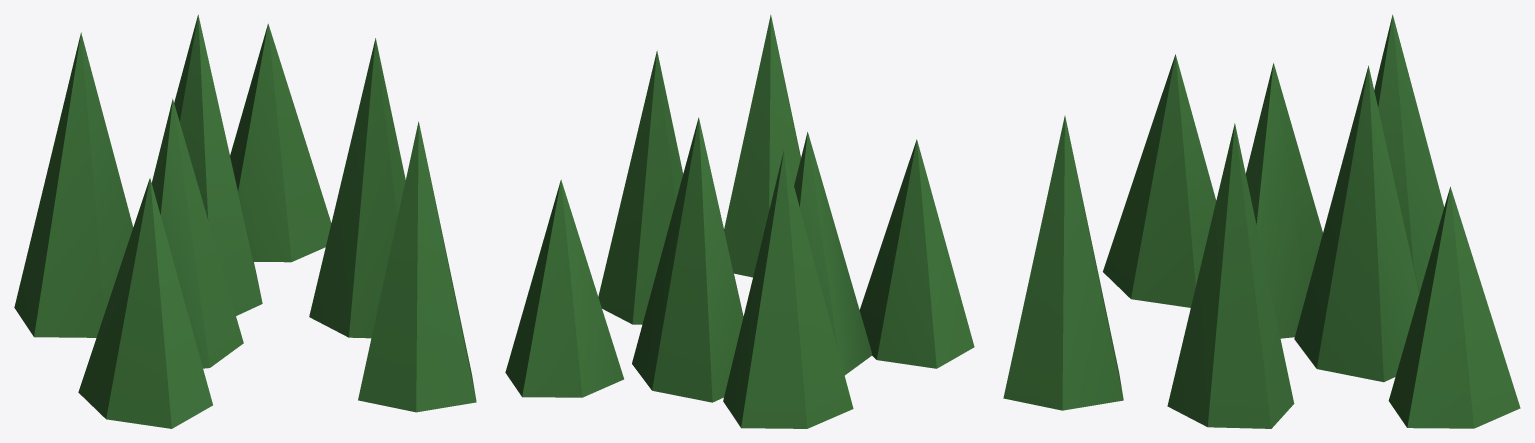
The model's file is forest_clump_conifer.glb.
3 views of the same model, side by side, from view 1: azimuth 30°, elevation 25°; view 2: azimuth 150°, elevation 25°; view 3: azimuth 270°, elevation 25° (orthographic). The views are drawn at different scales.
Bounding box in the file's own units: 17.54 × 13.18 × 21.7.
